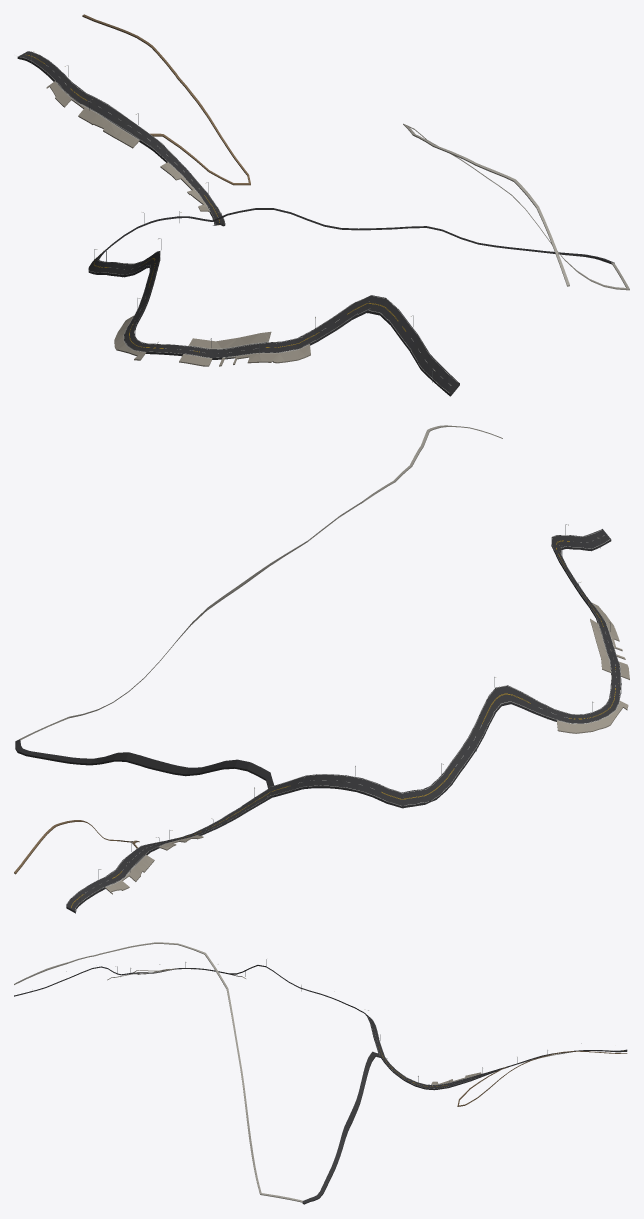
3 renders of one model, top to bottom at view 1: azimuth 30°, elevation 25°; view 2: azimuth 150°, elevation 25°; view 3: azimuth 270°, elevation 25°, orthographic. The views are drawn at different scales.
Size of the model in its own units: 380 by 180 by 585.
